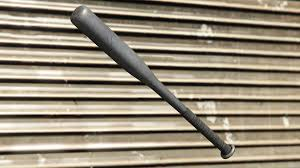baseball bat: (70, 3, 236, 160)
